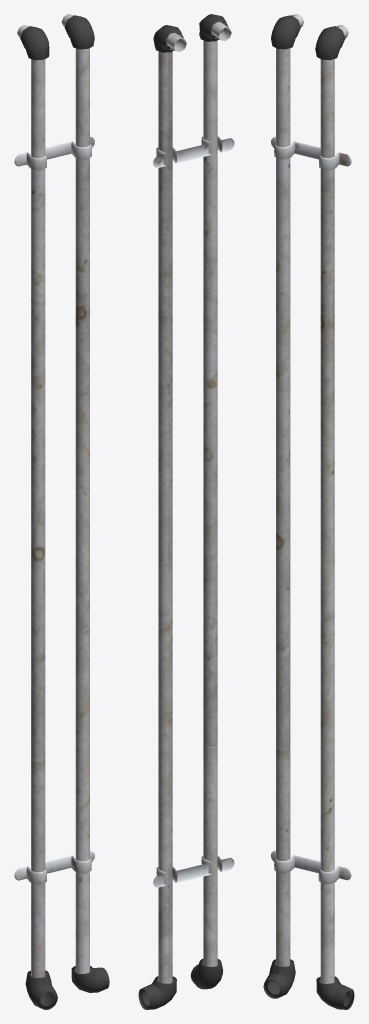
Rendered from SM_Pipe_200_Straight_Double_Horizontal_01a.glb.
3 views of the same model, side by side, from view 1: azimuth 30°, elevation 25°; view 2: azimuth 210°, elevation 25°; view 3: azimuth 330°, elevation 25° (orthographic).
Visible parts, largest first — view 1: SM_Pipe_200_Straight_Double_Horizontal_01a; view 2: SM_Pipe_200_Straight_Double_Horizontal_01a; view 3: SM_Pipe_200_Straight_Double_Horizontal_01a.
Boxes of the visible parts, left/top/right/bottom form: SM_Pipe_200_Straight_Double_Horizontal_01a: left=14, top=14, right=109, bottom=1009; SM_Pipe_200_Straight_Double_Horizontal_01a: left=138, top=14, right=234, bottom=1009; SM_Pipe_200_Straight_Double_Horizontal_01a: left=263, top=14, right=354, bottom=1009.
Size of the model in its own units: 0.1848 by 2.05 by 0.0954.
Materials: 1 (1 with a texture image).
